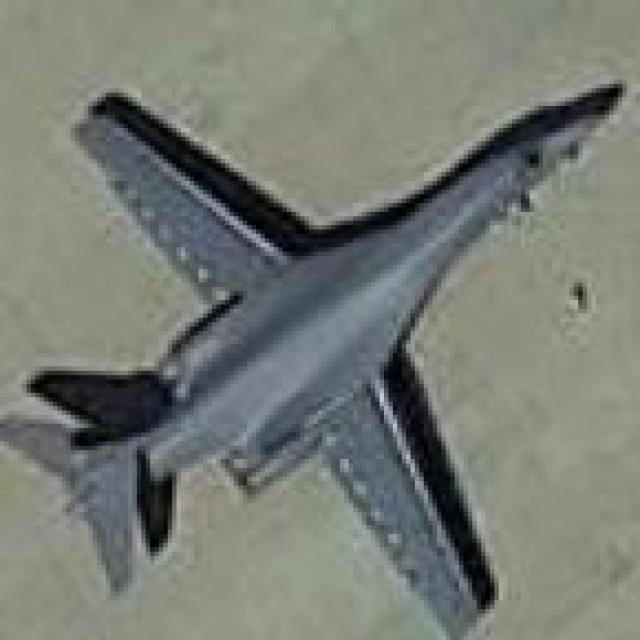B-1_TopDown: (0, 70, 627, 636)
